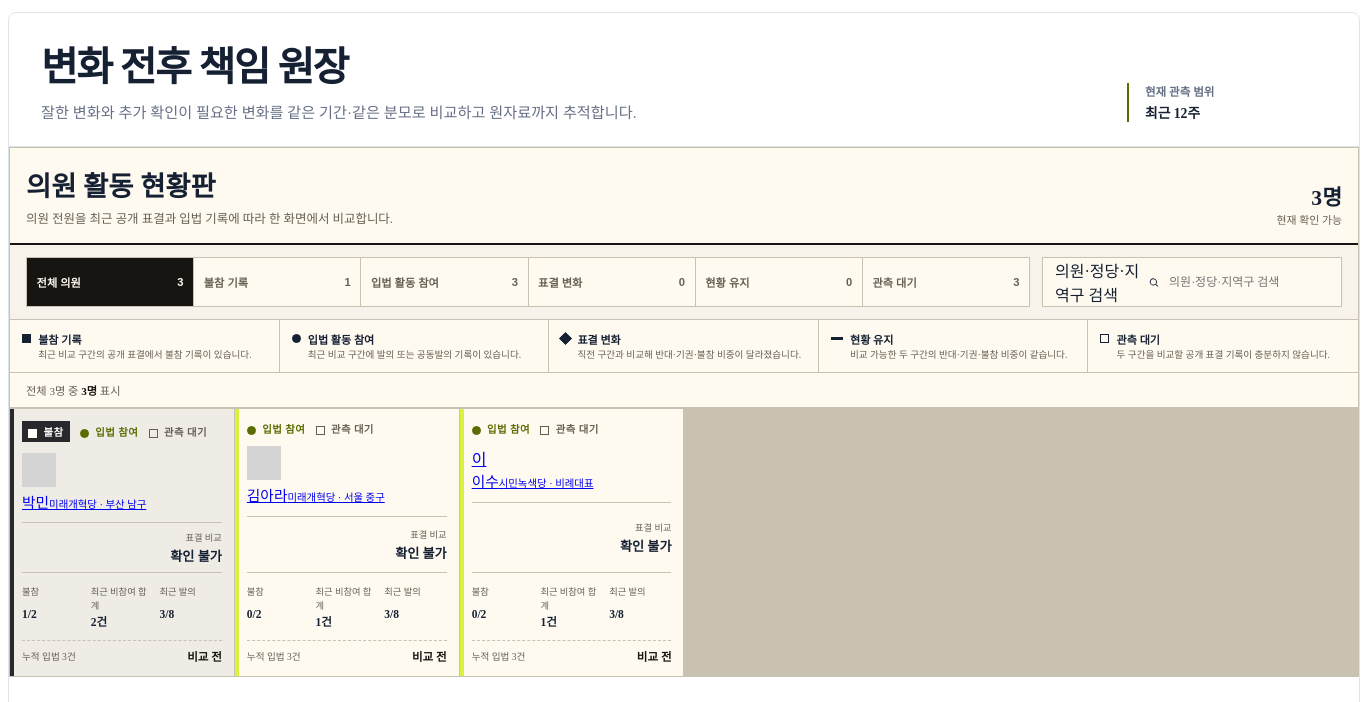
evidence exploration pages › renders the complete member activity docket and filters by status
The width and height of the screenshot is (1366, 702).
Check: the number of list items is 3, box left=10, top=409, right=234, bottom=676; left=235, top=409, right=459, bottom=676; left=460, top=409, right=684, bottom=676
Check: the element with class "change-docket__result-count" reads "전체 3명 중 3명 표시", box left=10, top=373, right=1358, bottom=408
Click the button "불참 기록 1" at (277, 282), box left=194, top=258, right=360, bottom=306
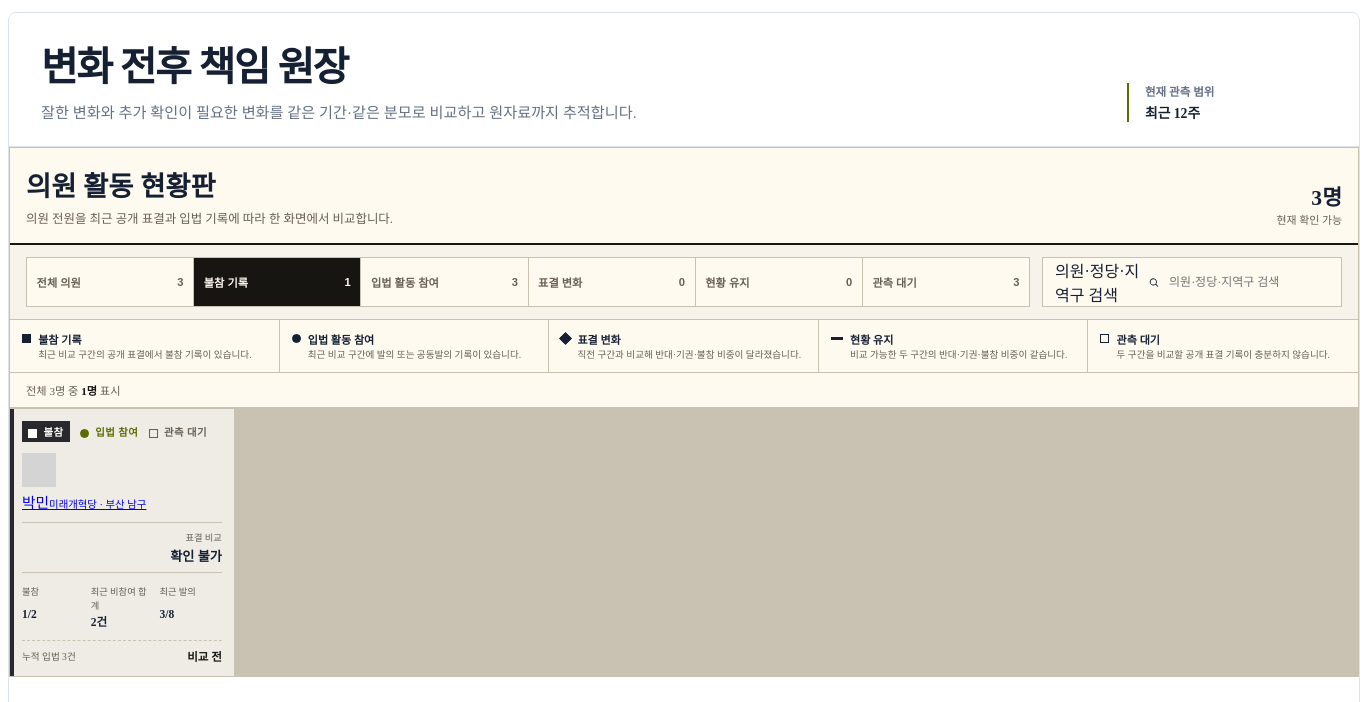
Check: the number of list items is 1, box left=10, top=409, right=234, bottom=676
Check: the link "김아라" is gone
Click the button "전체 의원 3" at (110, 282), box left=27, top=258, right=193, bottom=306
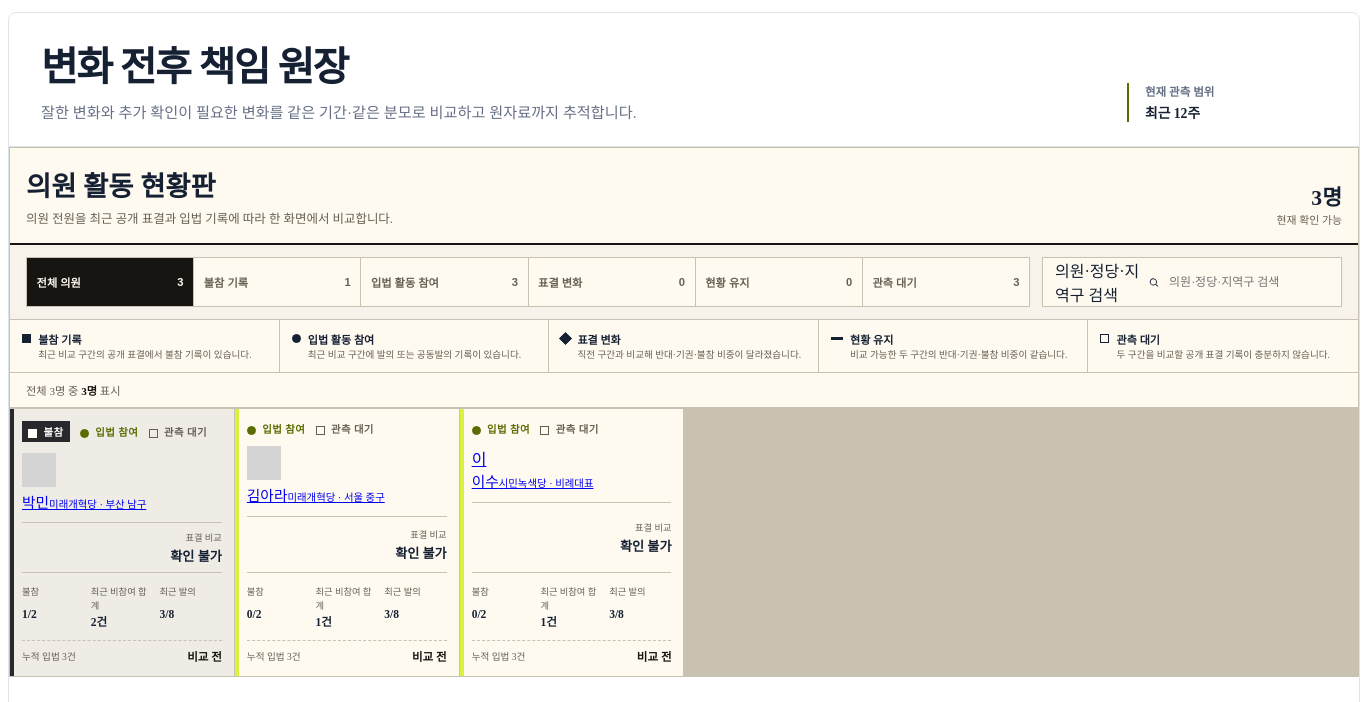
Type "비례대표" into the search field labelled "의원·정당·지역구 검색" at (1248, 282), box left=1167, top=261, right=1329, bottom=303
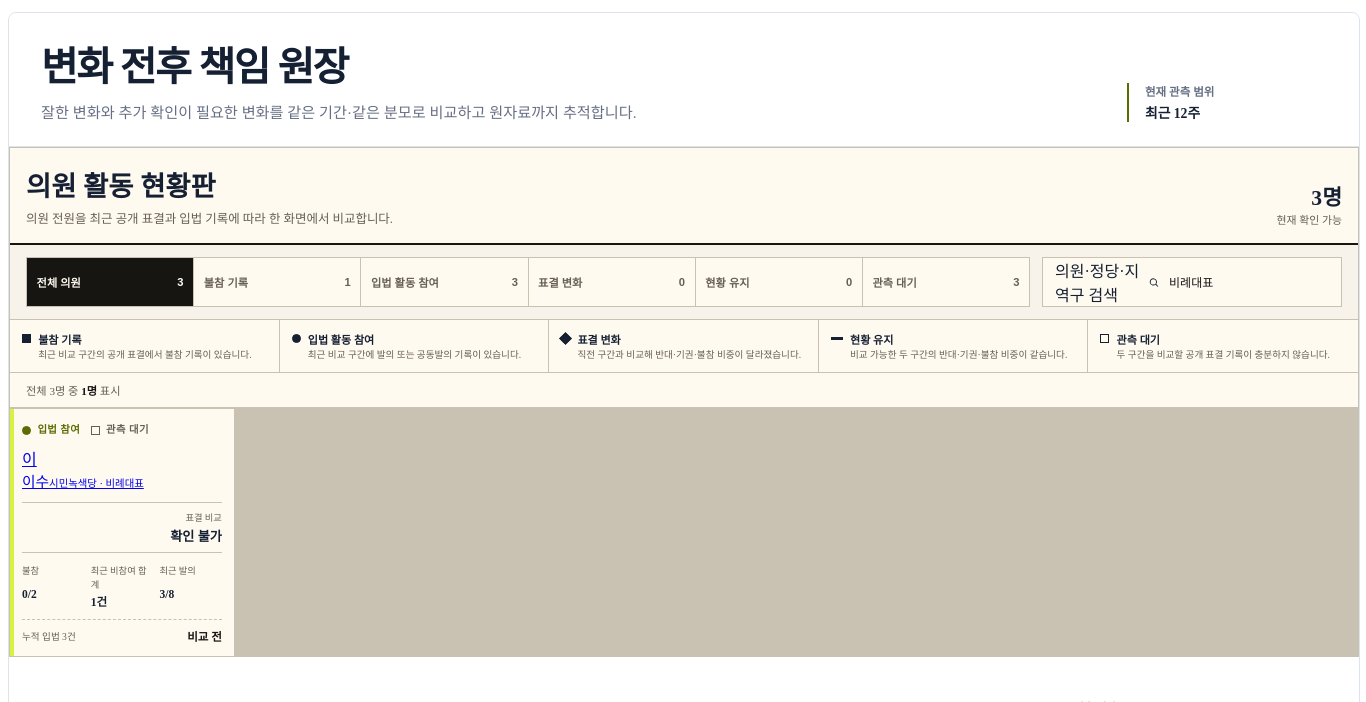
Check: the link "이수" is shown, box left=22, top=451, right=144, bottom=490
Check: the number of list items is 1, box left=10, top=409, right=234, bottom=656
